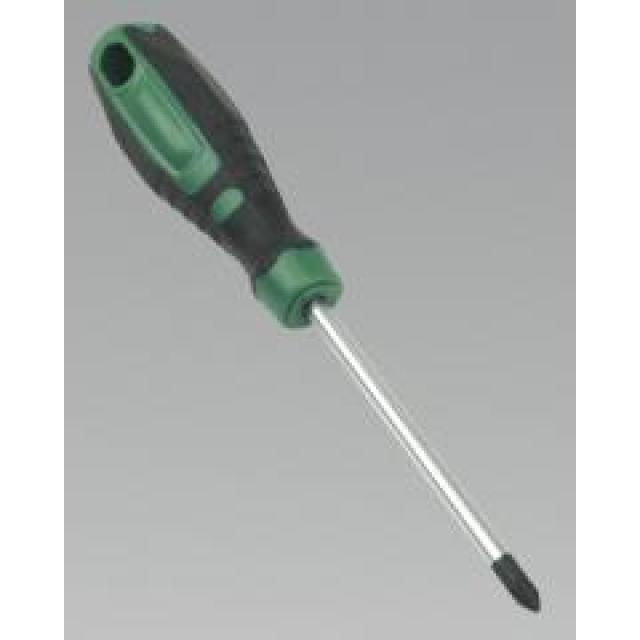screw_driver: (90, 22, 548, 617)
